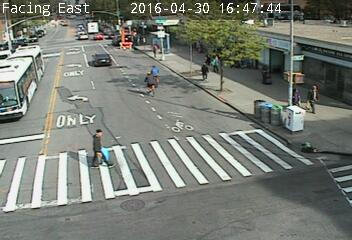neg: (55, 44, 85, 84), (3, 55, 33, 95), (115, 182, 144, 221), (247, 93, 275, 131), (227, 27, 252, 60), (315, 20, 336, 48), (122, 19, 138, 41), (65, 96, 81, 117), (95, 47, 110, 66), (158, 23, 170, 39), (170, 117, 182, 133), (299, 138, 311, 154), (261, 68, 272, 83)
pos: (83, 125, 115, 168), (306, 82, 329, 112), (140, 76, 155, 95), (212, 54, 227, 73), (197, 62, 210, 79), (151, 63, 163, 80), (294, 89, 304, 102), (152, 44, 161, 55), (204, 52, 212, 63)
